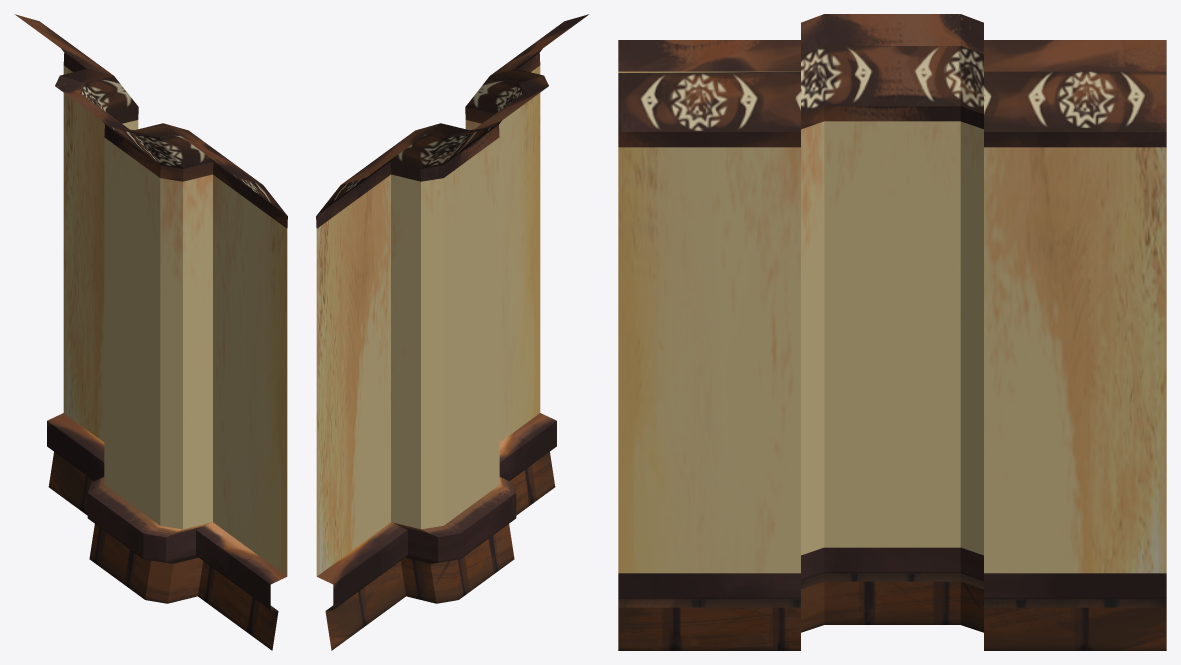
The model's file is стіна з колоною рівна.fbx.
The picture shows the model from 3 angles, left to right: view 1: azimuth 30°, elevation 25°; view 2: azimuth 150°, elevation 25°; view 3: azimuth 270°, elevation 25°; orthographic projection. The views are drawn at different scales.
Parts seen in each view (by area): view 1: трім.006; view 2: трім.006; view 3: трім.006.
Boxes of the visible parts, x1,y1,x2,y2 form: трім.006: (14,14,287,650); трім.006: (316,14,589,650); трім.006: (618,14,1166,650).
Size of the model in its own units: 56.18 by 277 by 233.
